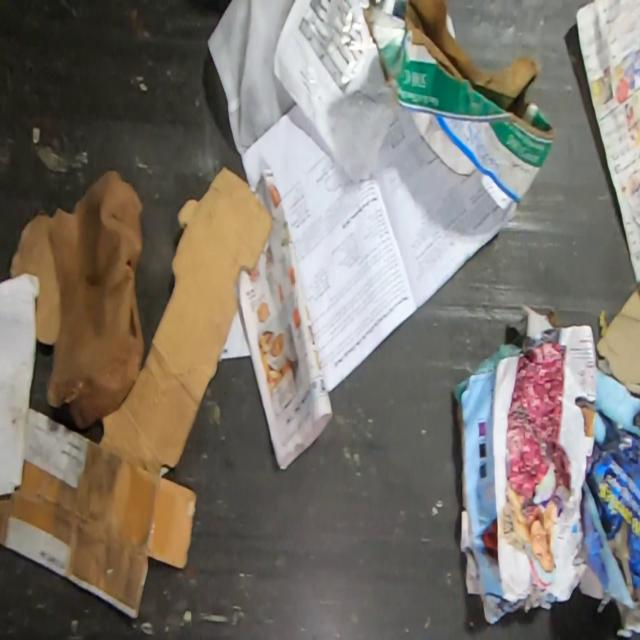cardboard: (99, 161, 276, 479), (0, 401, 199, 618), (358, 0, 559, 206), (0, 273, 38, 493), (594, 281, 640, 396)
